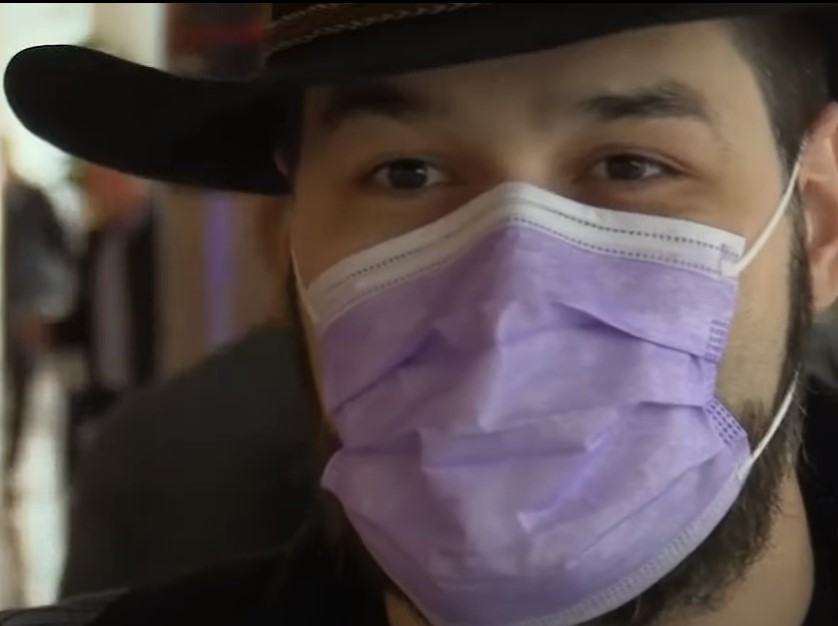face_with_mask: (281, 5, 824, 626)
